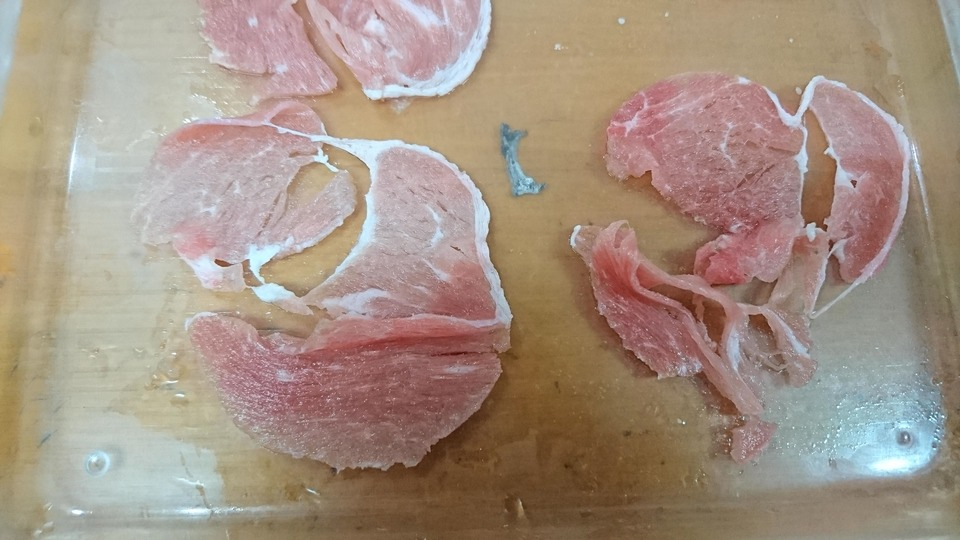restructured meat: (145, 112, 500, 474), (586, 85, 919, 405), (197, 8, 525, 100)
